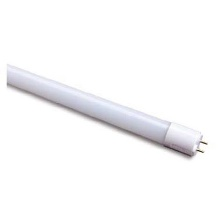light_bulb: (7, 54, 209, 163)
